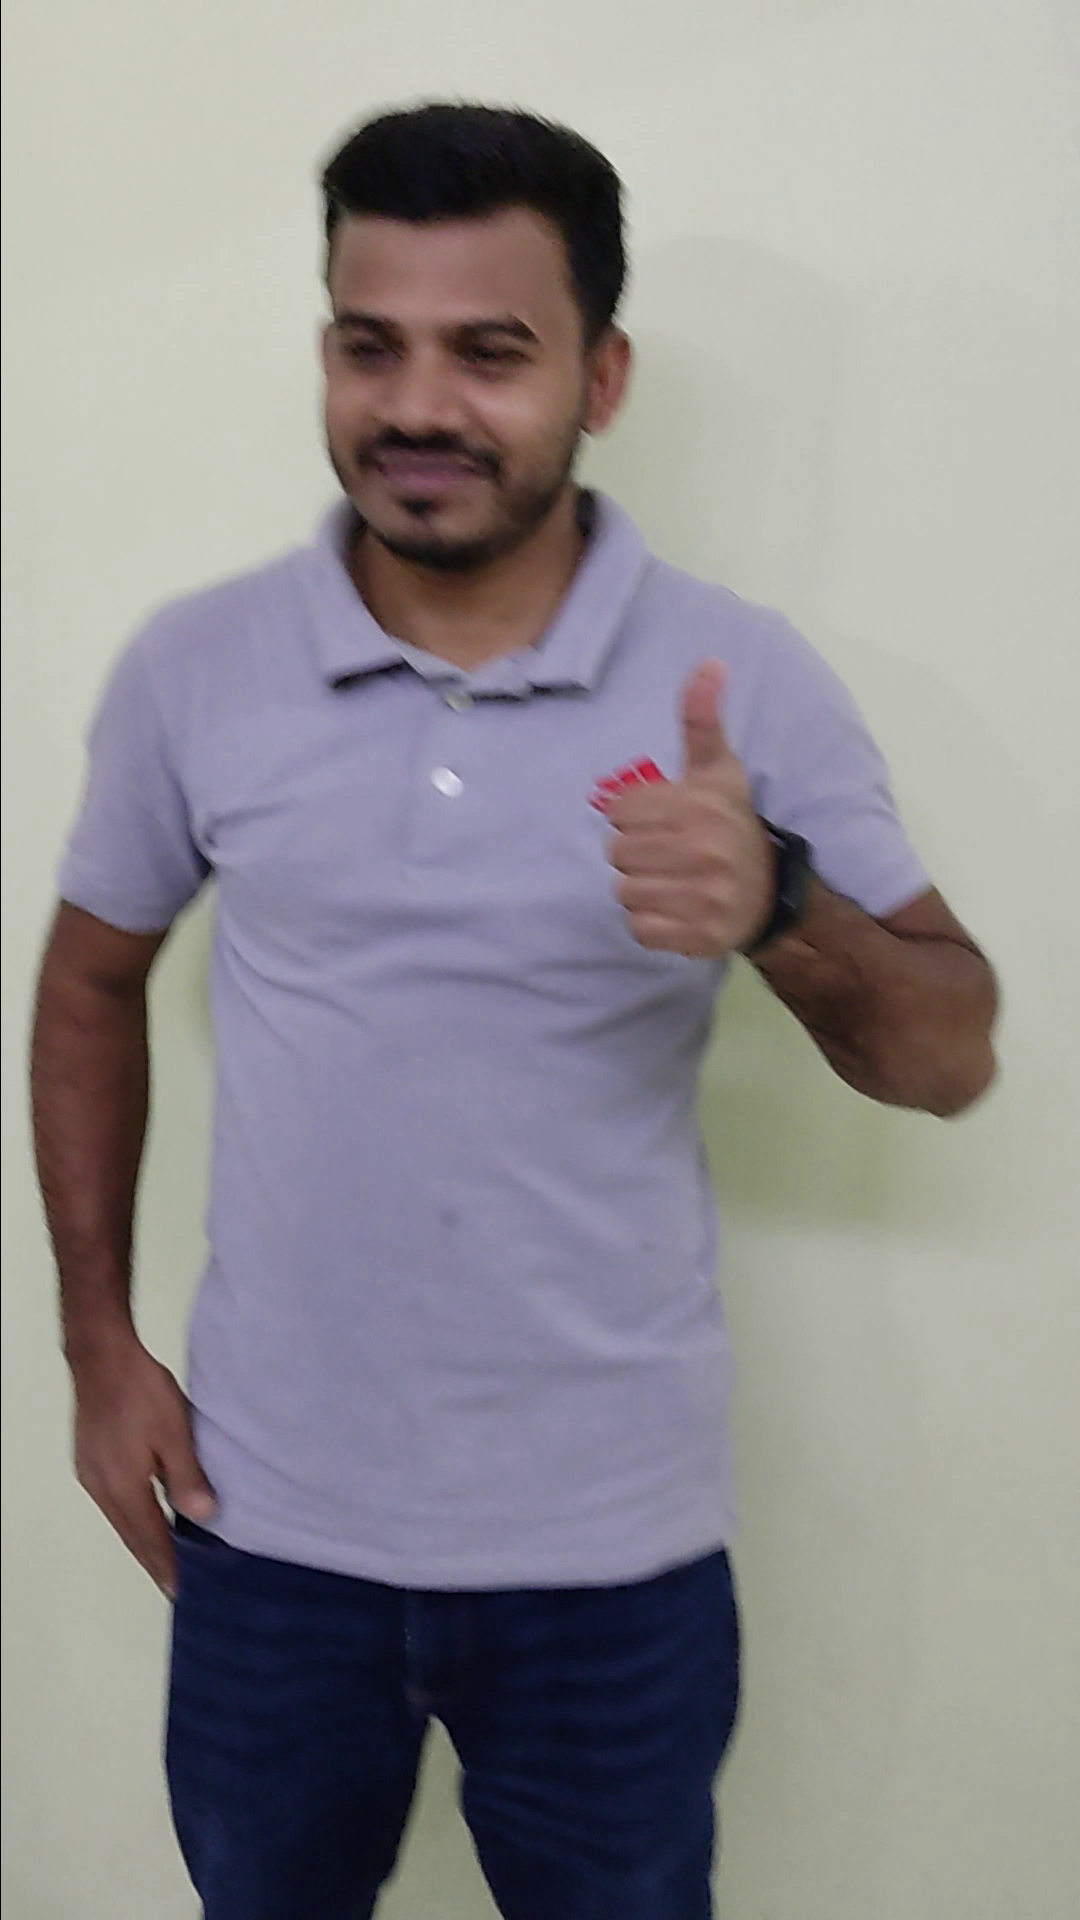Like: (580, 638, 806, 973)
None: (50, 1315, 233, 1615)
